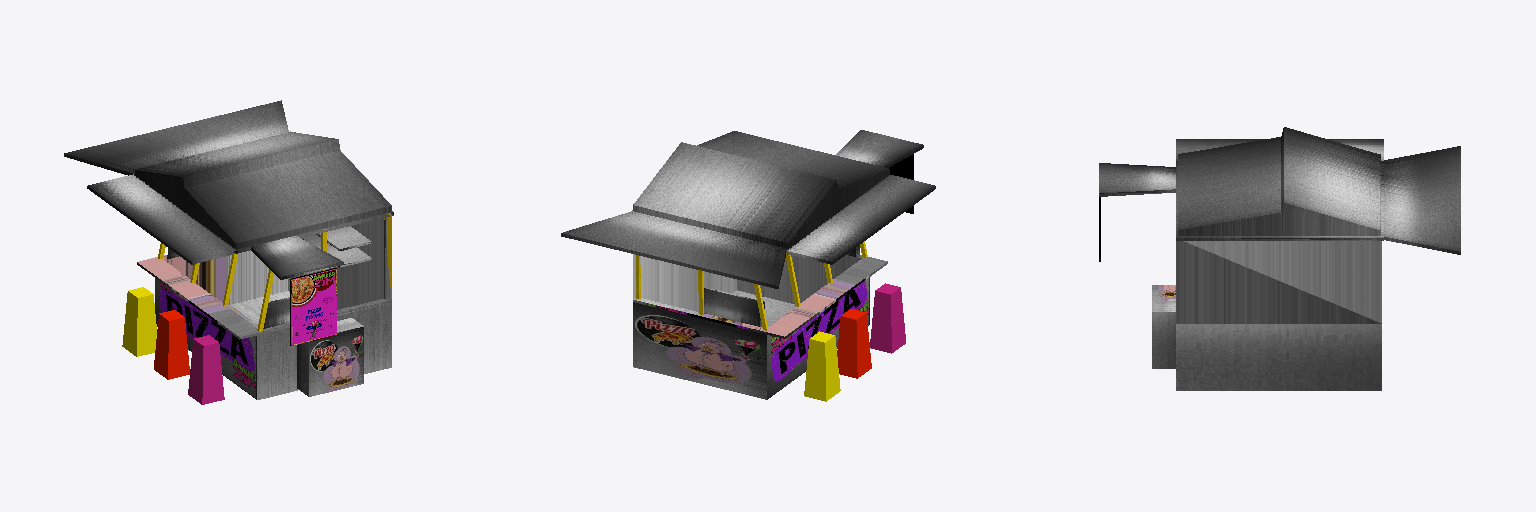
3 views of the same model, side by side, from view 1: azimuth 30°, elevation 25°; view 2: azimuth 150°, elevation 25°; view 3: azimuth 270°, elevation 25° (orthographic).
Visible parts, largest first — view 1: base, letrero.001, banco3, banco2, banco1, tubos; view 2: base, banco1, banco3, banco2, tubos; view 3: base.
Part boxes in pixels (bbox=[...]): base: bbox=[64, 100, 393, 399]; letrero.001: bbox=[291, 269, 336, 345]; banco3: bbox=[188, 335, 224, 404]; banco2: bbox=[154, 310, 189, 379]; banco1: bbox=[122, 287, 156, 356]; tubos: bbox=[158, 214, 391, 331]; base: bbox=[561, 130, 935, 399]; banco1: bbox=[804, 331, 840, 401]; banco3: bbox=[870, 283, 905, 353]; banco2: bbox=[837, 309, 871, 378]; tubos: bbox=[636, 241, 867, 330]; base: bbox=[1099, 127, 1460, 390].
Bounding box in the file's own units: 3.88 × 3.02 × 5.23.
Materials: 8 (5 with a texture image).